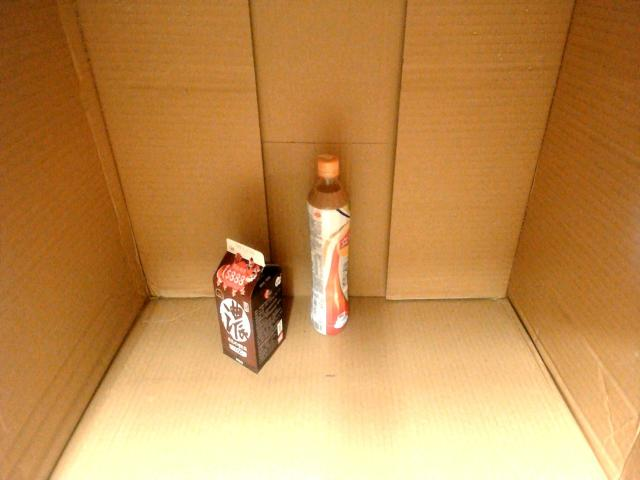bottle: (308, 155, 350, 335)
